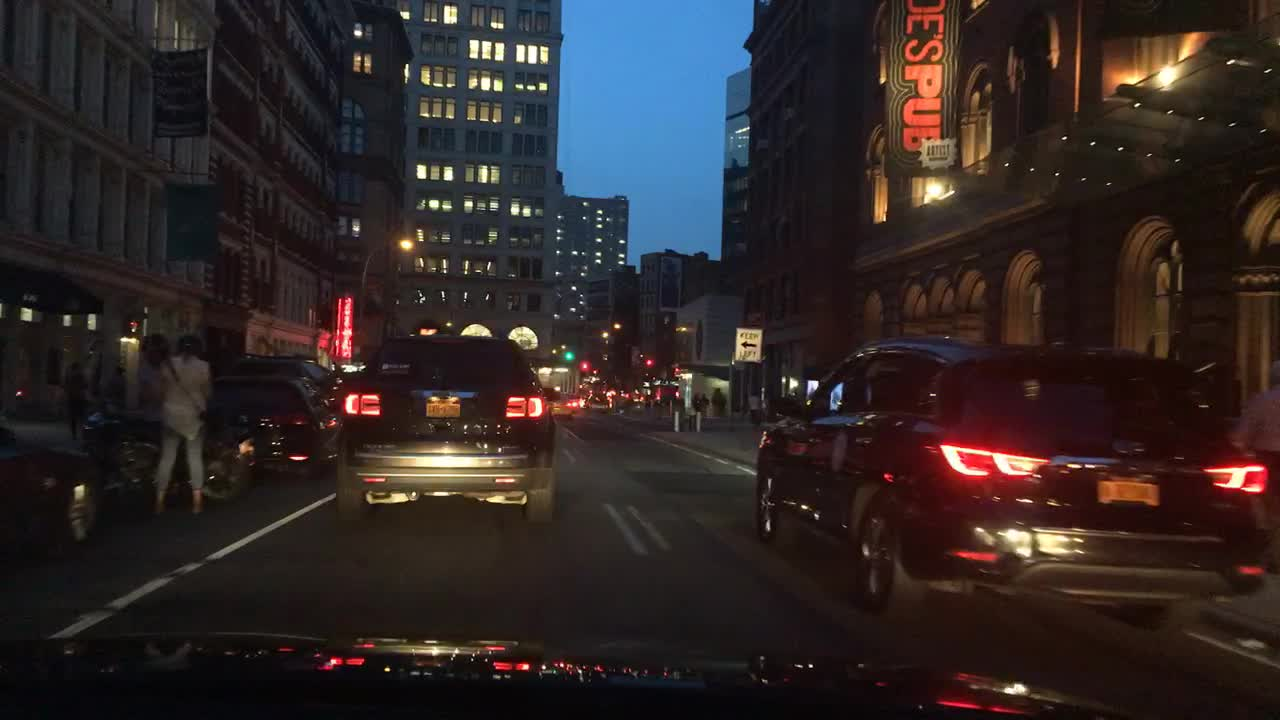car: (752, 333, 1276, 633), (331, 331, 557, 527), (203, 372, 338, 482), (0, 419, 93, 562), (214, 353, 337, 410), (546, 392, 573, 422), (584, 391, 609, 414), (564, 397, 584, 411)
motor: (82, 405, 244, 501)
person: (151, 332, 214, 519), (1230, 363, 1277, 571), (66, 360, 87, 439), (748, 390, 760, 425), (690, 390, 699, 414), (700, 394, 707, 417)
traffic light: (565, 352, 572, 361)
traffic sign: (734, 325, 761, 364)
